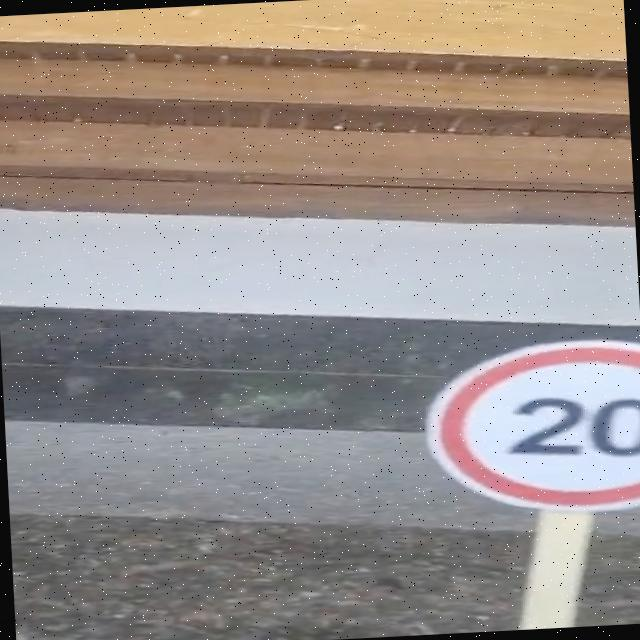Speed20: (411, 319, 640, 527)
